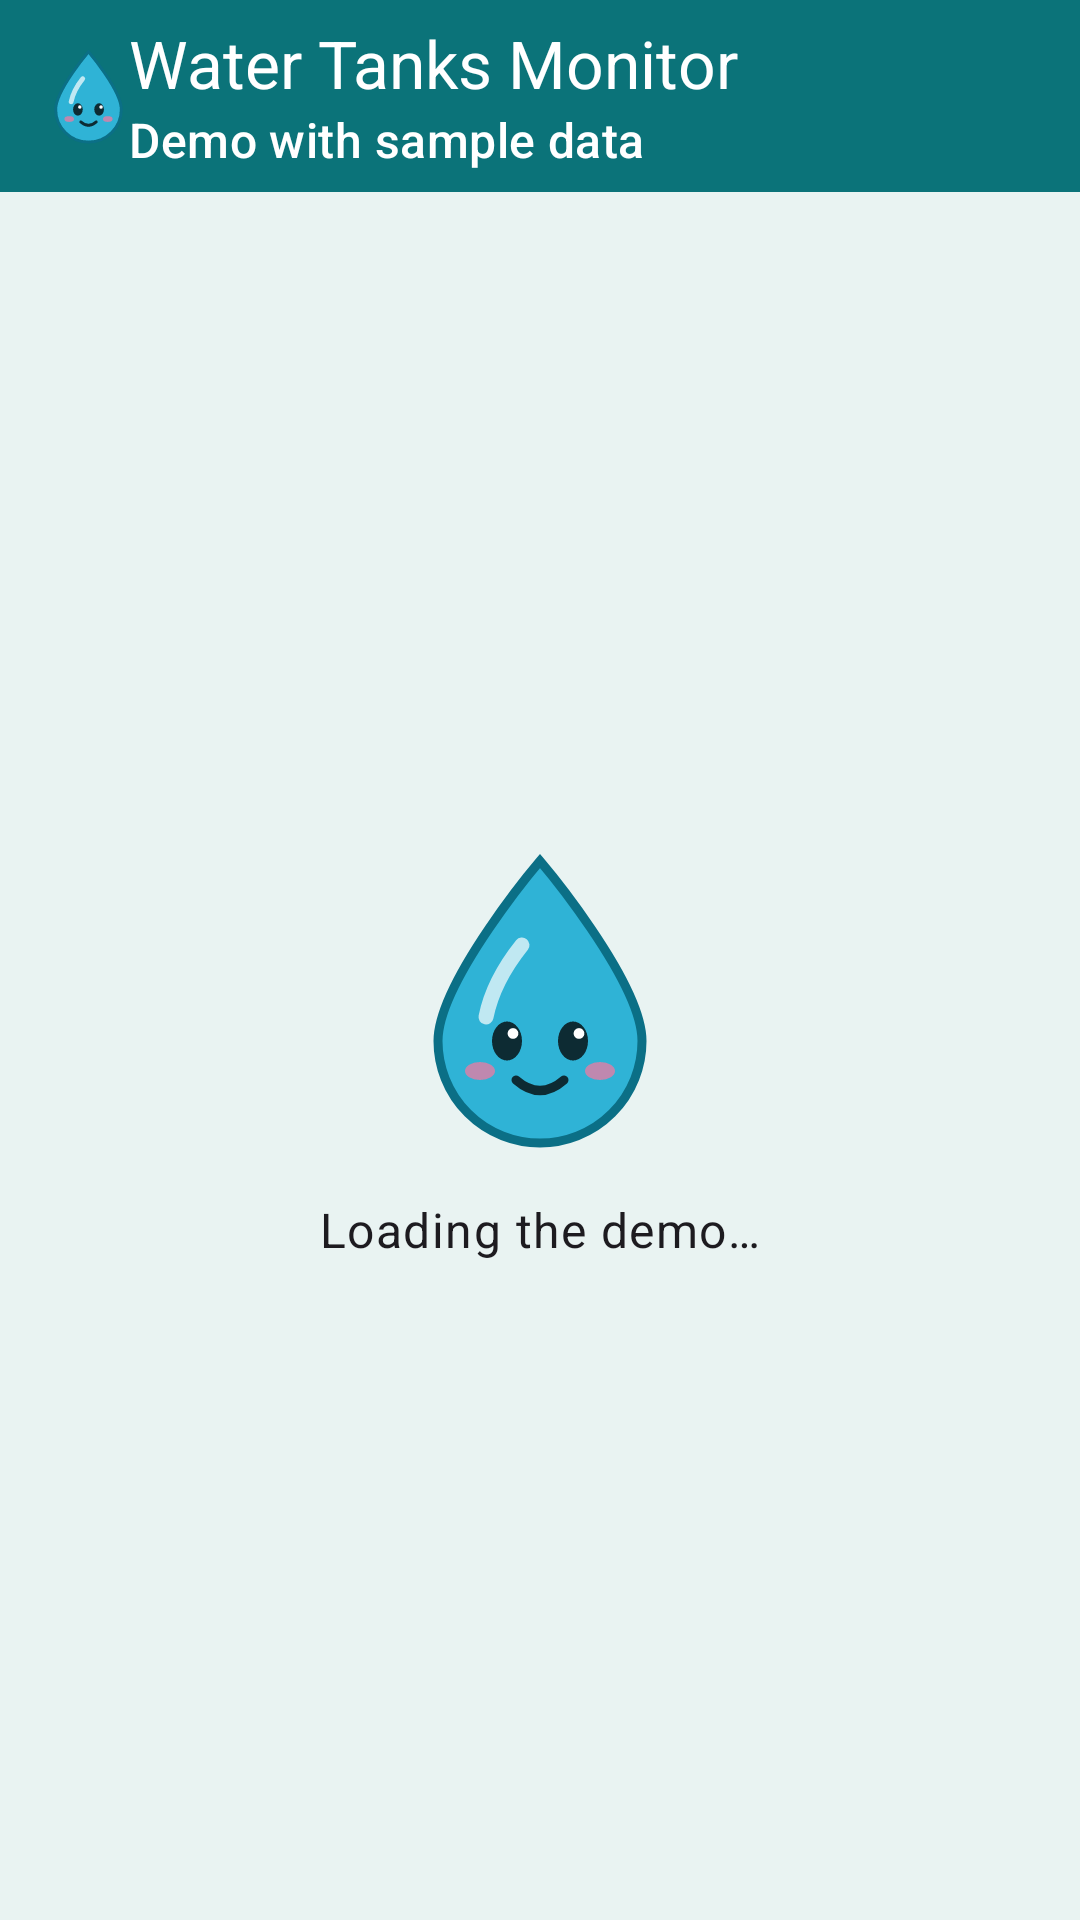

Named icons in this screenshot (1080*1920) and their bounding boxes, (x1, y1, x2, y2):
mascot: (433, 854, 647, 1148)
